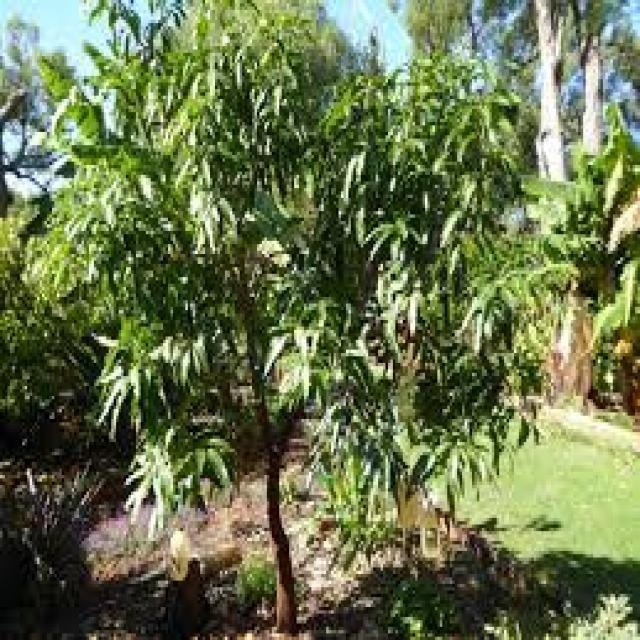Tree: (92, 1, 450, 634)
